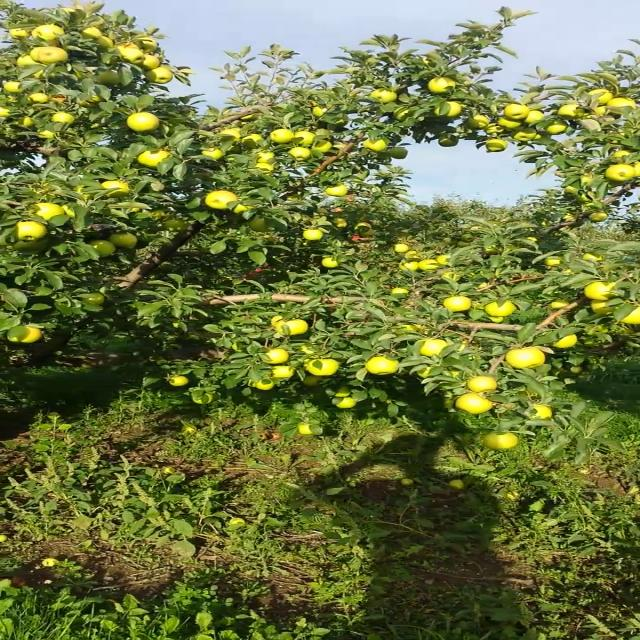apple: (454, 394, 492, 414), (506, 347, 543, 367), (39, 46, 70, 66), (366, 356, 399, 374), (584, 281, 616, 299), (204, 191, 236, 208), (128, 113, 157, 131), (138, 151, 170, 167), (16, 222, 44, 240), (12, 238, 49, 251), (35, 204, 65, 220), (10, 326, 40, 342), (306, 359, 336, 375), (486, 432, 516, 448), (90, 240, 116, 258), (468, 376, 497, 392), (108, 234, 140, 248), (276, 320, 308, 334), (484, 301, 516, 315), (422, 339, 446, 357), (606, 166, 633, 182), (32, 26, 62, 40), (101, 181, 127, 197), (428, 77, 454, 93), (120, 50, 145, 66), (260, 349, 288, 363), (146, 68, 170, 84), (444, 296, 471, 310), (505, 103, 528, 119), (436, 103, 462, 117), (512, 128, 538, 142), (620, 306, 639, 324), (552, 333, 576, 347), (558, 103, 582, 117), (588, 90, 612, 104), (74, 187, 93, 204), (467, 115, 489, 129), (29, 46, 48, 62), (609, 96, 634, 108), (138, 38, 156, 54), (591, 300, 615, 312), (372, 90, 396, 102), (544, 121, 568, 133), (271, 130, 293, 143), (99, 71, 119, 85), (288, 147, 311, 159), (270, 365, 292, 377), (295, 130, 317, 142), (485, 139, 507, 151), (498, 118, 524, 128), (327, 386, 351, 396), (244, 135, 262, 148), (142, 55, 158, 69), (534, 404, 550, 418), (325, 185, 347, 195), (364, 139, 386, 149), (249, 219, 267, 231), (311, 140, 329, 152), (166, 222, 187, 232), (82, 28, 101, 39), (564, 185, 580, 198), (529, 111, 546, 123), (255, 379, 275, 389), (303, 230, 323, 240), (52, 113, 74, 122), (60, 205, 76, 217), (5, 82, 24, 92), (193, 394, 212, 404), (336, 398, 355, 408), (221, 128, 240, 138), (486, 125, 505, 135), (82, 296, 103, 305), (393, 108, 410, 119), (18, 55, 36, 65), (234, 205, 254, 214), (589, 212, 607, 222), (389, 148, 407, 158), (438, 136, 456, 146), (205, 148, 222, 158), (596, 104, 610, 116), (544, 256, 561, 265), (10, 28, 29, 36), (418, 260, 437, 268), (98, 37, 113, 47), (169, 377, 187, 385), (258, 153, 274, 162), (398, 262, 416, 270), (30, 93, 44, 103), (416, 368, 430, 378), (254, 163, 274, 170), (400, 251, 420, 258), (304, 377, 321, 385), (551, 300, 568, 308), (39, 130, 55, 138), (359, 230, 375, 238), (19, 119, 33, 128), (118, 43, 139, 49), (331, 218, 345, 227), (323, 258, 337, 266), (355, 224, 369, 232), (272, 316, 284, 325), (583, 254, 601, 260), (613, 151, 631, 157), (437, 256, 450, 264), (395, 243, 409, 250), (301, 345, 313, 353), (300, 425, 311, 433), (314, 107, 325, 115), (45, 39, 57, 46), (1, 108, 11, 116), (456, 241, 469, 247), (569, 366, 580, 373), (391, 289, 406, 294), (458, 236, 470, 242), (129, 208, 141, 214), (633, 162, 638, 176), (444, 238, 454, 244), (588, 364, 598, 370), (403, 325, 413, 331)
